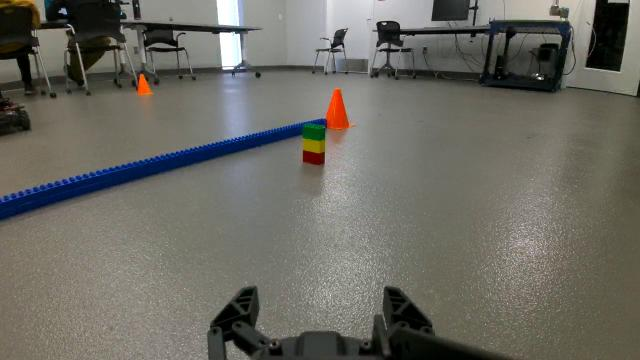lego: (298, 120, 329, 170)
